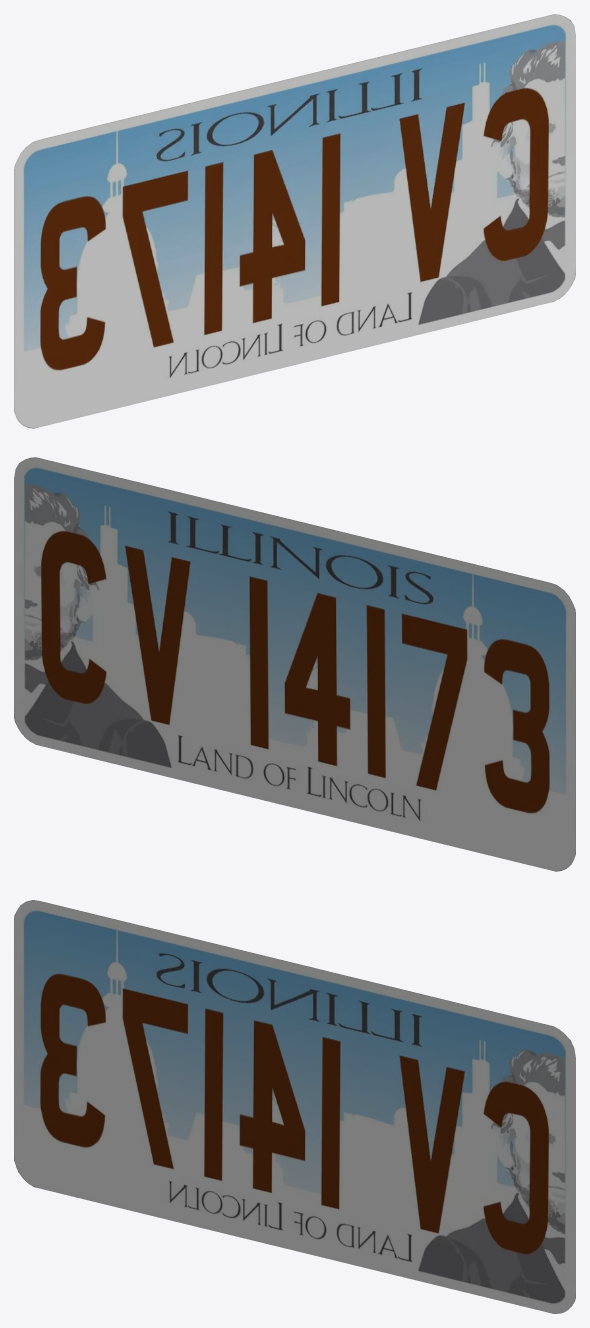
File: body_illinoisplatemerc_0.glb
3 renders of one model, top to bottom at view 1: azimuth 30°, elevation 25°; view 2: azimuth 150°, elevation 25°; view 3: azimuth 330°, elevation 25°, orthographic.
Parts seen in each view (by area): view 1: body_illinoisplatemerc_0; view 2: body_illinoisplatemerc_0; view 3: body_illinoisplatemerc_0.
Part boxes in pixels (x1,y1,x2,y2): body_illinoisplatemerc_0: [14, 14, 575, 428]; body_illinoisplatemerc_0: [14, 457, 575, 871]; body_illinoisplatemerc_0: [14, 900, 575, 1313].
Size of the model in its own units: 0.4064 by 0.1988 by 6.7e-08.
Materials: 1 (1 with a texture image).
